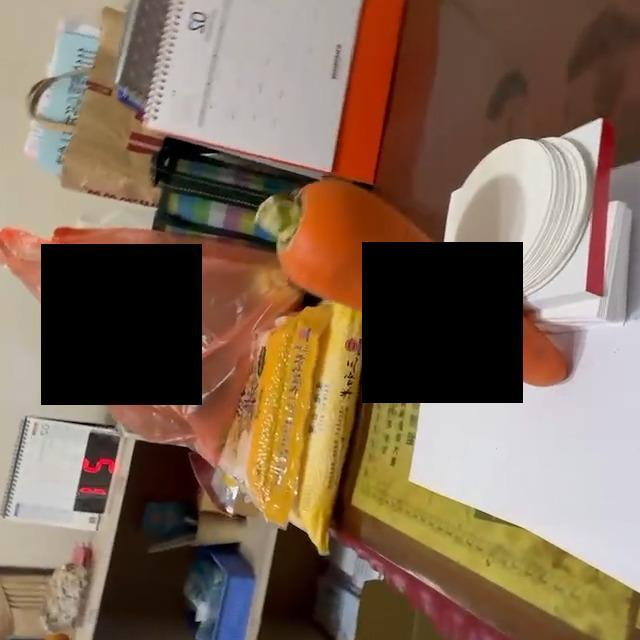carrot: (251, 181, 576, 390)
